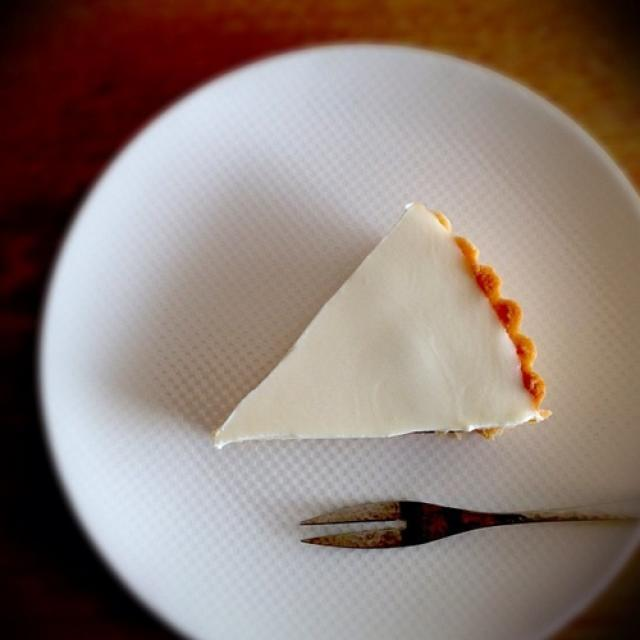Rare cheese cake: (168, 177, 557, 495)
